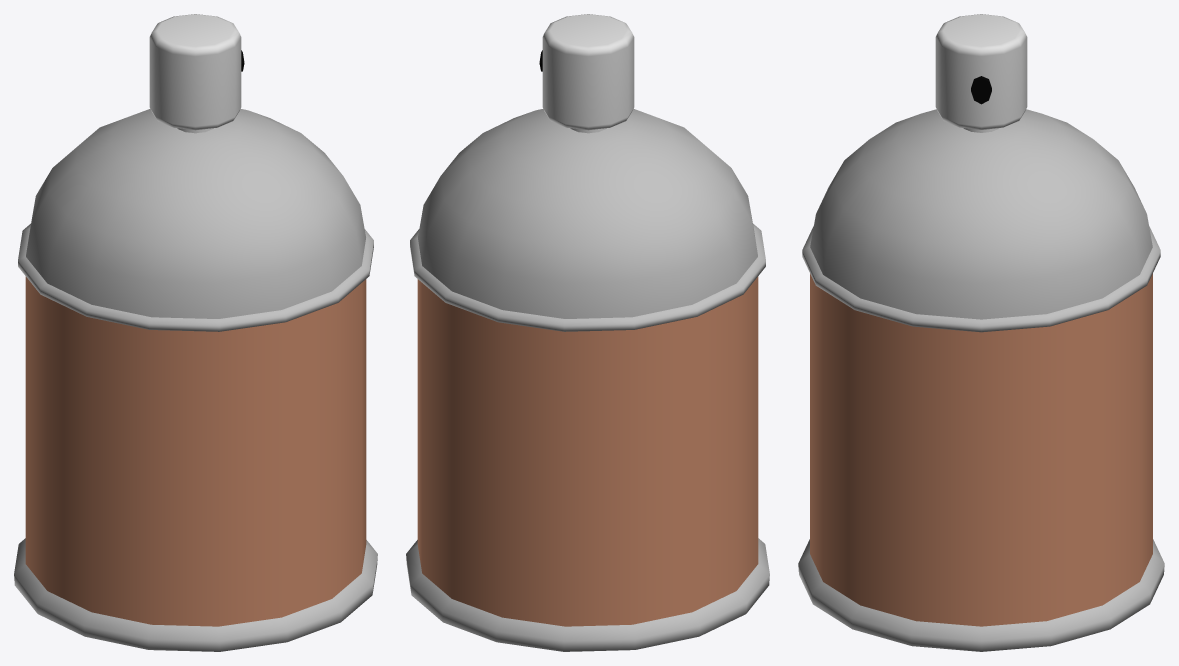
File: spray.fbx
The picture shows the model from 3 angles, left to right: view 1: azimuth 30°, elevation 25°; view 2: azimuth 150°, elevation 25°; view 3: azimuth 270°, elevation 25°; orthographic projection.
Parts seen in each view (by area): view 1: spray_2, spray_1; view 2: spray_2, spray_1; view 3: spray_2, spray_1.
Part boxes in pixels (x1,y1,x2,y2): spray_2: (14,109,377,651); spray_1: (149,14,244,133); spray_2: (406,109,769,651); spray_1: (539,14,634,133); spray_2: (798,109,1164,651); spray_1: (935,14,1027,132).
Size of the model in its own units: 2.14 by 3.53 by 2.14.
